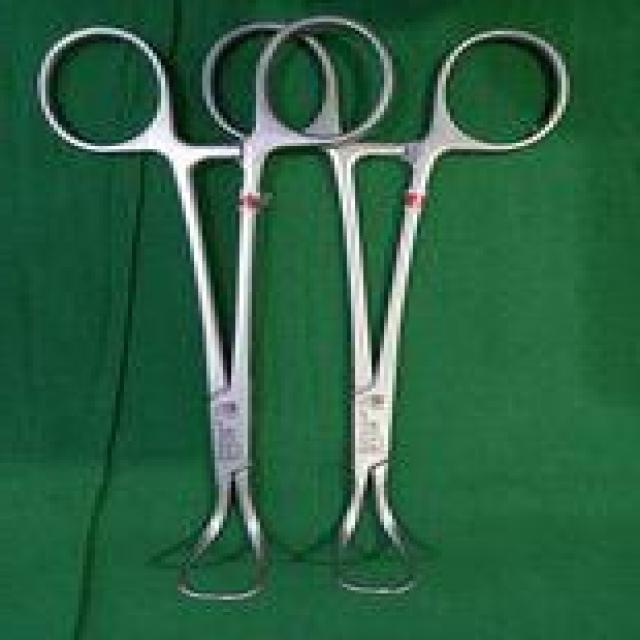Towel_clip: (194, 18, 578, 600), (33, 9, 401, 606)
